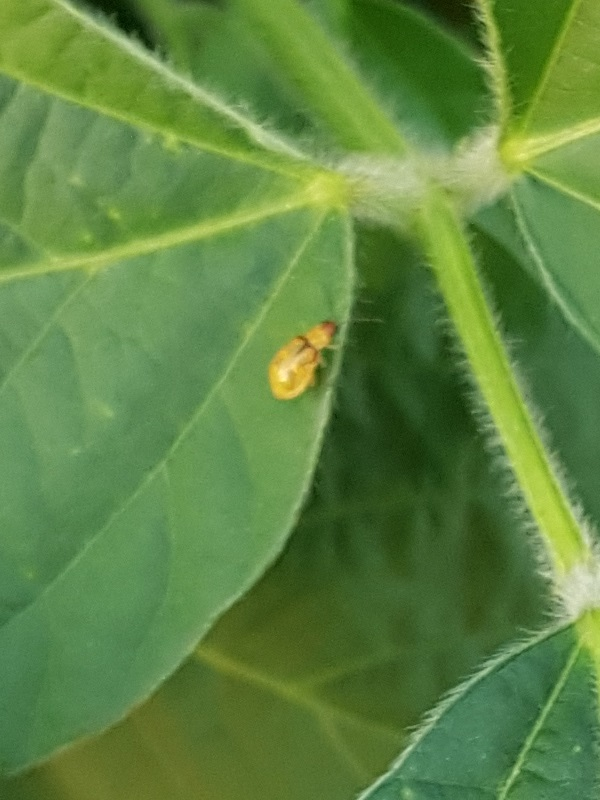Diabrotica_speciosa: (243, 301, 382, 426)
